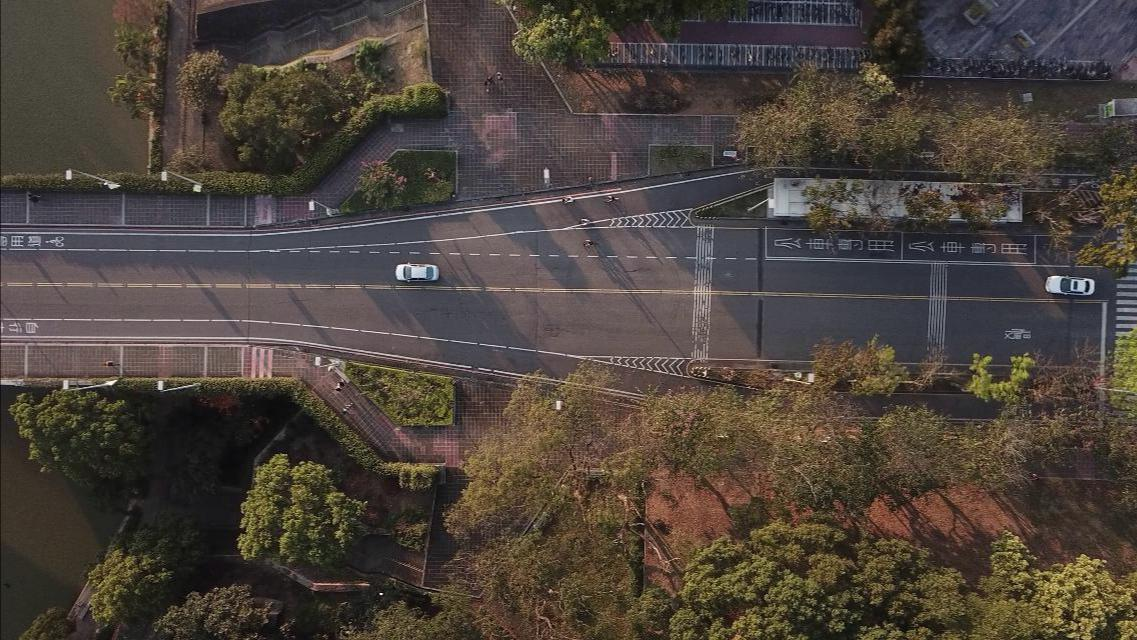vehicle: (1045, 274, 1094, 296), (395, 262, 439, 284)
